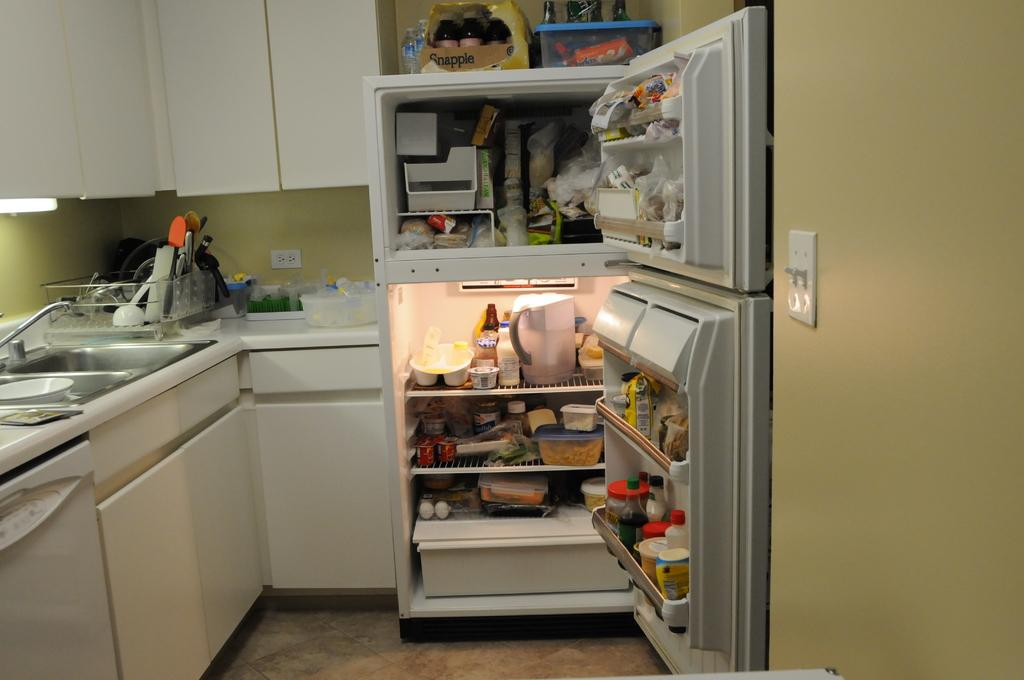cabinet_door: (90, 457, 256, 666), (239, 394, 391, 584), (164, 6, 267, 198), (279, 3, 365, 188)
